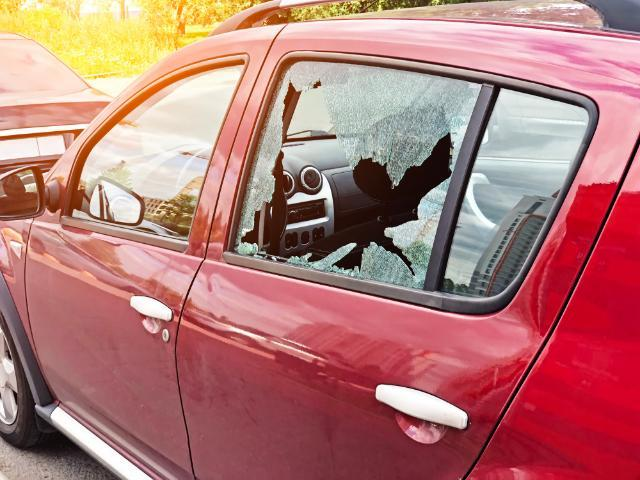Door: (238, 54, 550, 315)
